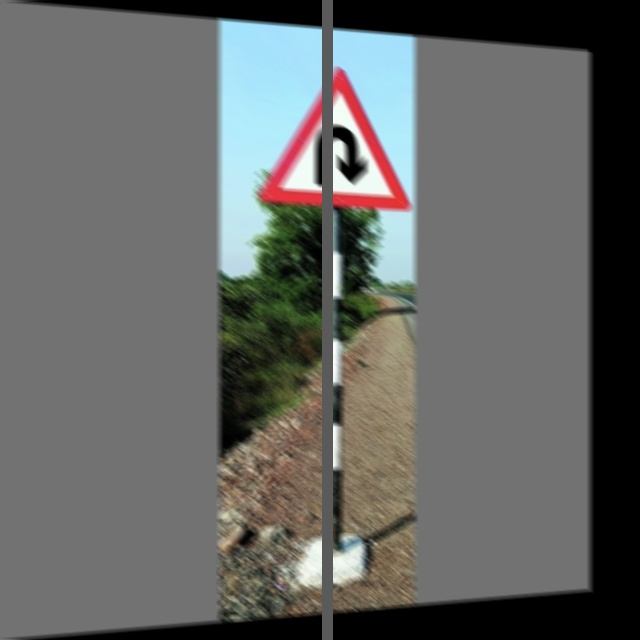Right_Hair_Pin_Bend: (269, 61, 406, 212)
